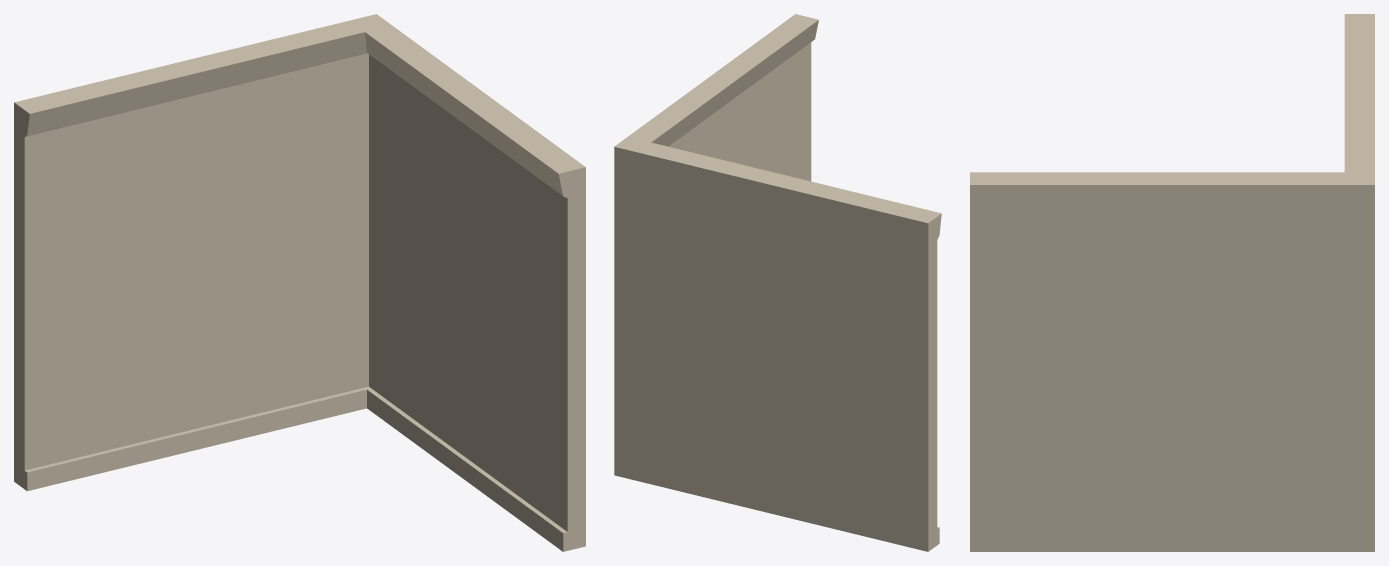
The model's file is Wall_1.gltf.
3 renders of one model, left to right at view 1: azimuth 30°, elevation 25°; view 2: azimuth 150°, elevation 25°; view 3: azimuth 270°, elevation 25°, orthographic. The views are drawn at different scales.
Parts seen in each view (by area): view 1: SM_Wall_3_170_StaticMeshComponent0; view 2: SM_Wall_3_170_StaticMeshComponent0; view 3: SM_Wall_3_170_StaticMeshComponent0.
Boxes of the visible parts, bbox=[...] form: SM_Wall_3_170_StaticMeshComponent0: bbox=[14, 14, 585, 551]; SM_Wall_3_170_StaticMeshComponent0: bbox=[614, 14, 941, 551]; SM_Wall_3_170_StaticMeshComponent0: bbox=[970, 14, 1374, 551].
Size of the model in its own units: 4 by 4 by 4.
Materials: 1 (1 with a texture image).
